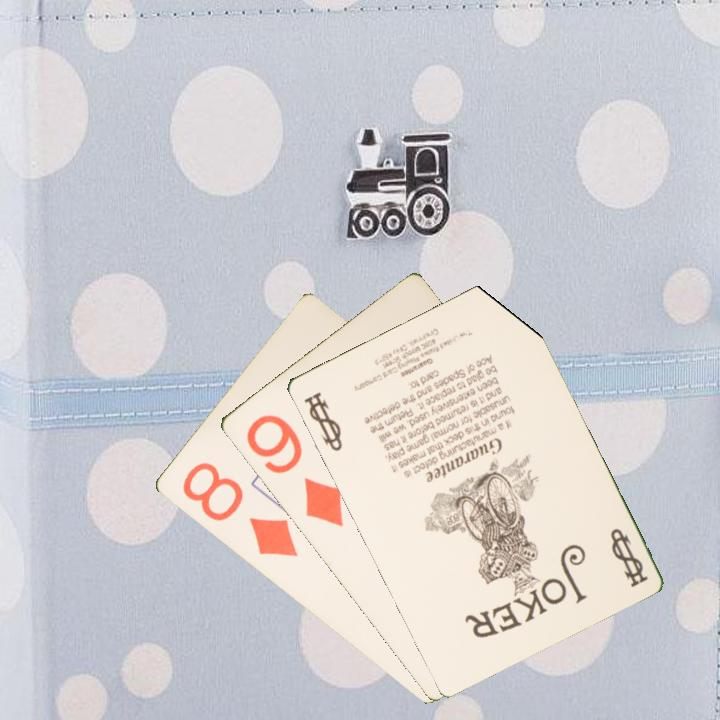8d: (178, 458, 301, 560)
9d: (242, 410, 346, 530)
JK: (605, 524, 651, 590), (300, 388, 345, 455)
